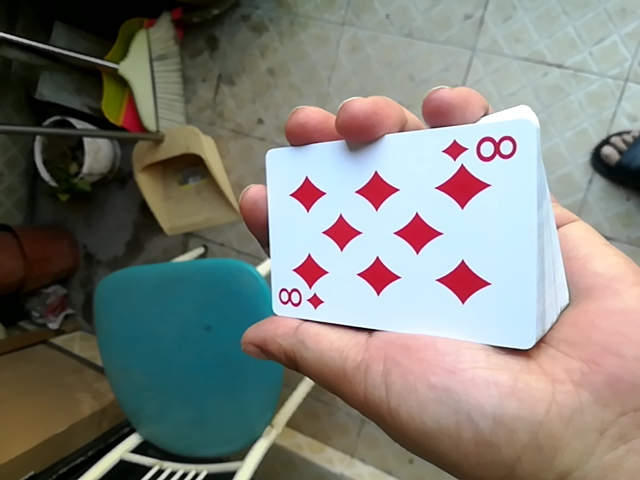fk 8: (246, 118, 547, 343)
